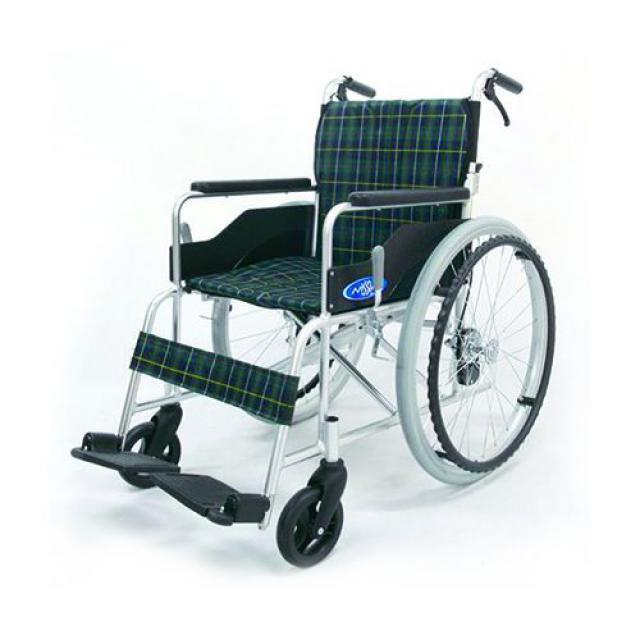wheelchairs: (72, 68, 552, 568)
